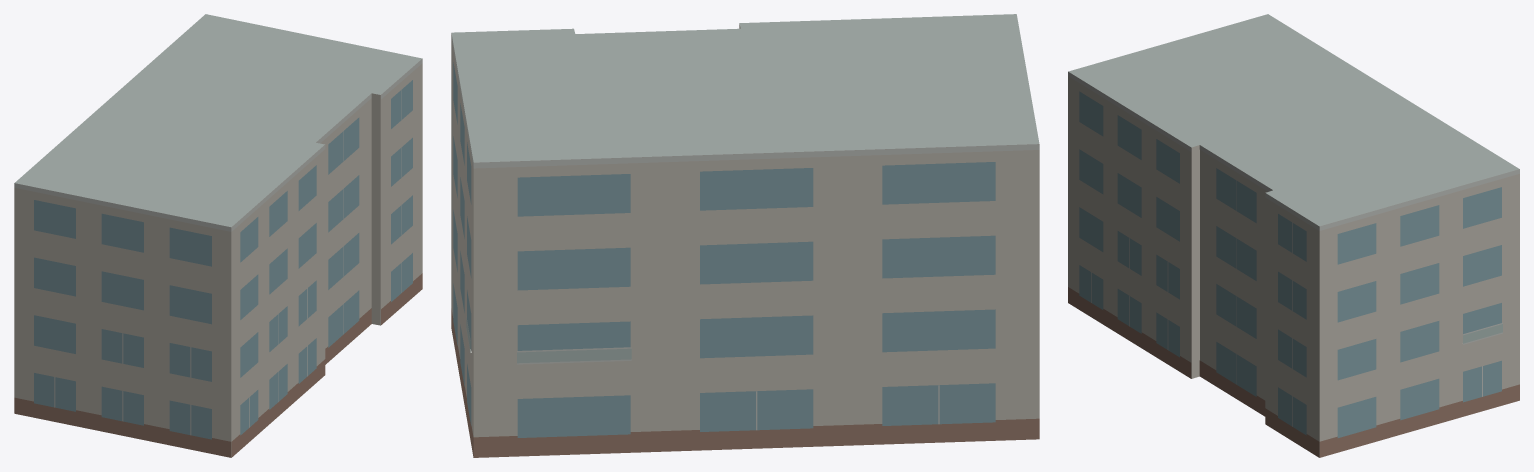
Rendered from survey-upis-32480534.glb.
3 views of the same model, side by side, from view 1: azimuth 30°, elevation 25°; view 2: azimuth 150°, elevation 25°; view 3: azimuth 270°, elevation 25° (orthographic). The views are drawn at different scales.
Visible parts, largest first — view 1: survey-upis-32480534.tmp; view 2: survey-upis-32480534.tmp; view 3: survey-upis-32480534.tmp.
Part boxes in pixels (x1=…): survey-upis-32480534.tmp: x1=14, y1=14, x2=422, y2=457; survey-upis-32480534.tmp: x1=451, y1=14, x2=1039, y2=457; survey-upis-32480534.tmp: x1=1068, y1=14, x2=1519, y2=457.
Size of the model in its own units: 24.02 by 12.2 by 21.59.
